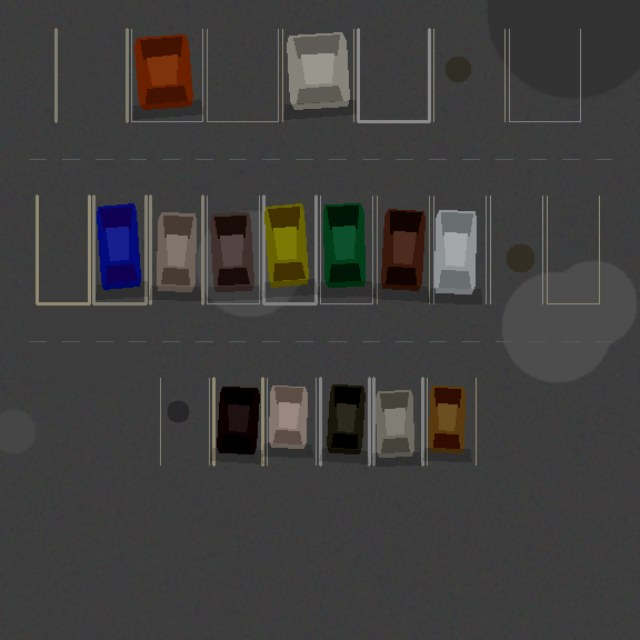space-empty: (56, 29, 127, 121), (207, 29, 278, 121), (358, 29, 429, 121), (433, 29, 504, 121), (509, 29, 580, 121), (37, 196, 89, 303), (490, 196, 542, 303), (547, 196, 599, 303), (160, 378, 209, 464)
space-occupied: (131, 29, 202, 121), (282, 29, 353, 121), (93, 196, 146, 303), (263, 196, 316, 303), (433, 196, 486, 303), (150, 196, 202, 303), (207, 196, 259, 303), (320, 196, 372, 303), (377, 196, 429, 303), (213, 378, 262, 464), (267, 378, 316, 464), (320, 378, 369, 464), (373, 378, 422, 464), (427, 378, 476, 464)
